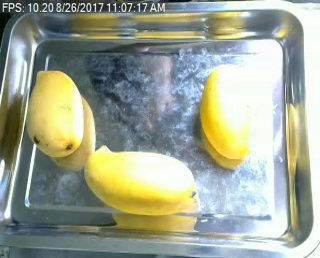Mango: (83, 148, 199, 216), (195, 56, 257, 164), (25, 67, 87, 159)
